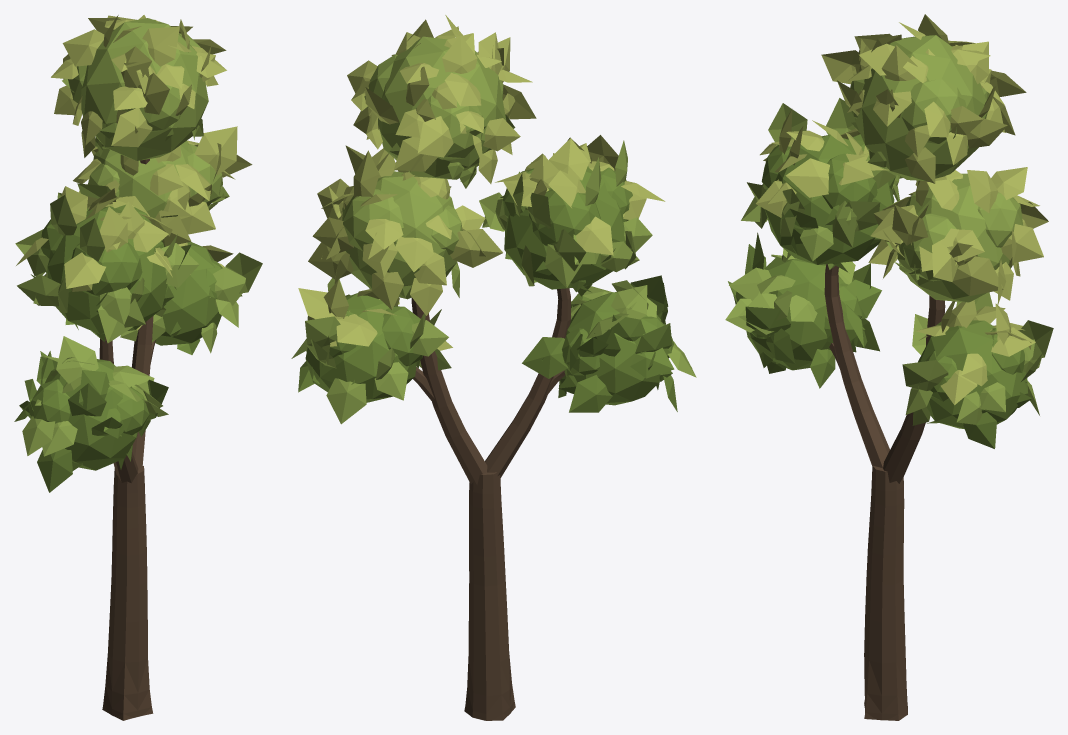
The picture shows the model from 3 angles, left to right: view 1: azimuth 30°, elevation 25°; view 2: azimuth 150°, elevation 25°; view 3: azimuth 270°, elevation 25°; orthographic projection. The views are drawn at different scales.
Visible parts, largest first — view 1: crown, trunk; view 2: crown, trunk; view 3: crown, trunk.
Part boxes in pixels (left/top/right/bottom): crown: left=14, top=15, right=262, bottom=492; trunk: left=99, top=159, right=155, bottom=720; crown: left=291, top=15, right=696, bottom=424; trunk: left=411, top=288, right=570, bottom=720; crown: left=725, top=14, right=1053, bottom=448; trunk: left=824, top=264, right=945, bottom=720.
Size of the model in its own units: 2.89 by 6.24 by 2.64.
